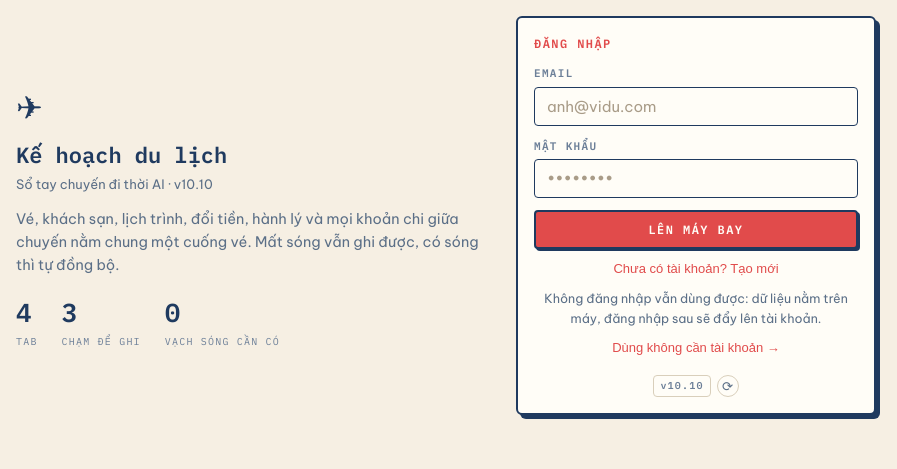
Test: màn đăng nhập · hai chế độ trên một form › lỗi từ máy chủ hiện ra nguyên văn, mật khẩu bị xoá để gõ lại
Type "a@b.c" into the field with placeholder "anh@vidu.com" at coordinates (696, 106), box [534,87,858,126]
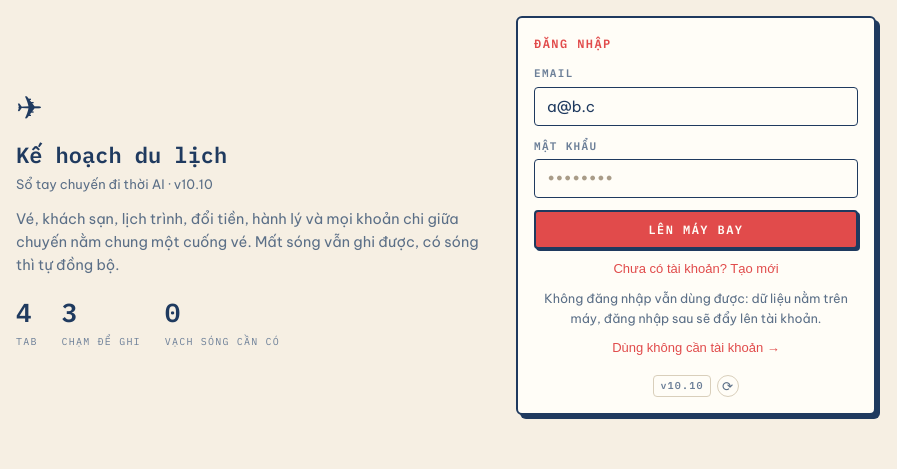
Type "sai" into the password field with placeholder "••••••••" at coordinates (696, 179), box [534,159,858,198]
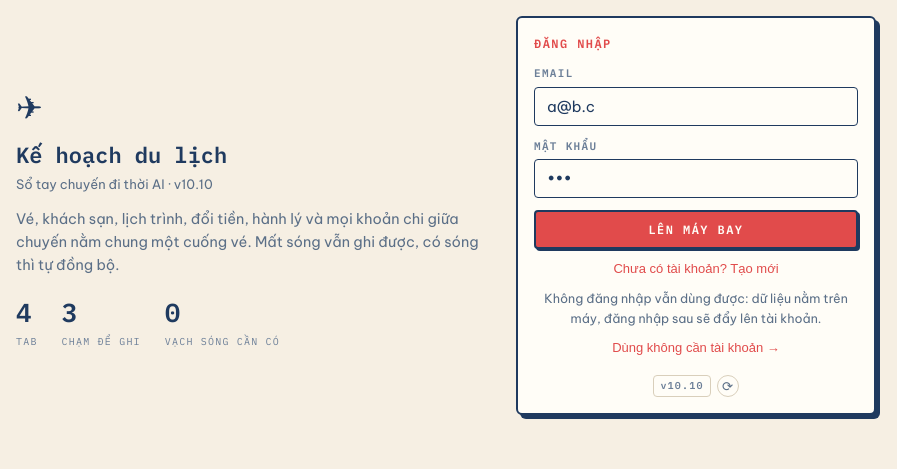
Click the button with class "nut--chinh" at coordinates (696, 230), box [534,210,858,249]
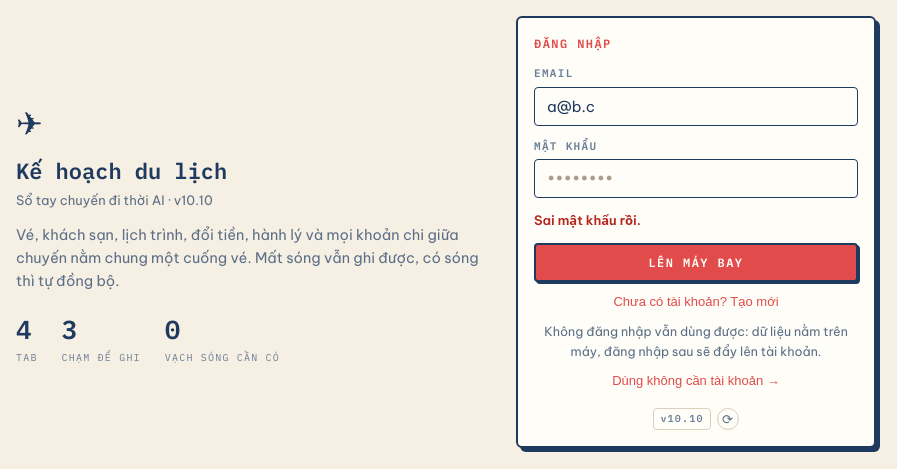
Check: the text with class "dn__loi" reads "Sai mật khẩu rồi.", box [534,212,641,228]
Check: the password field with placeholder "••••••••" is empty, box [534,159,858,198]
